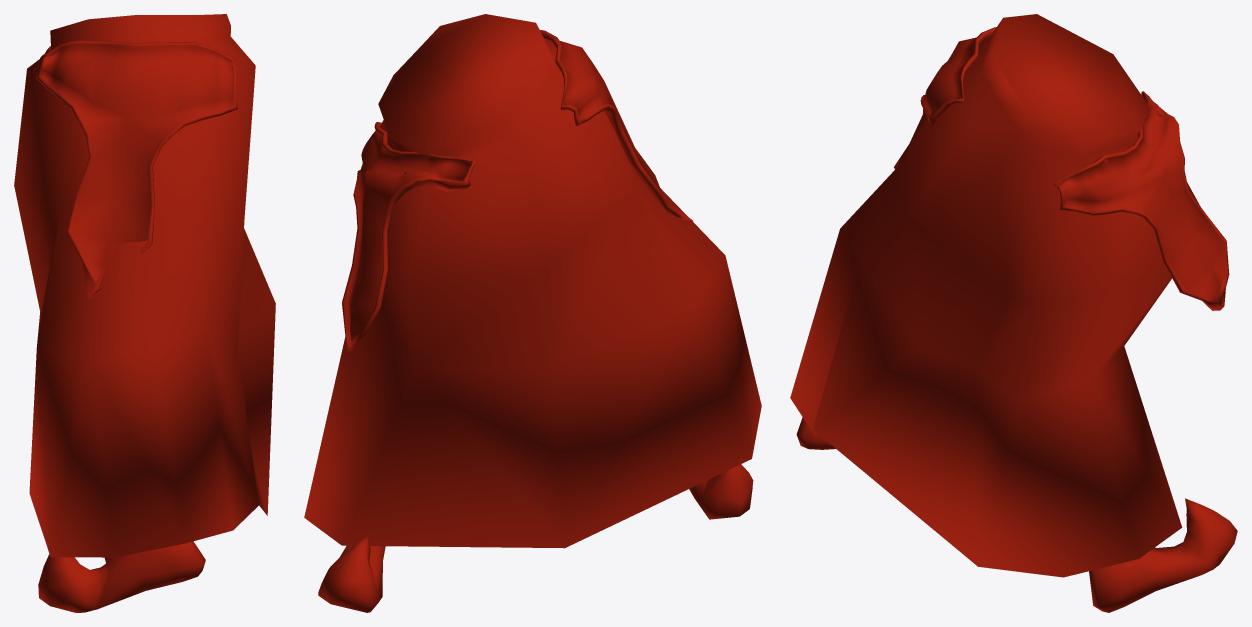
Rendered from bot_000075.obj.
The picture shows the model from 3 angles, left to right: view 1: azimuth 30°, elevation 25°; view 2: azimuth 150°, elevation 25°; view 3: azimuth 270°, elevation 25°; orthographic projection. The views are drawn at different scales.
Parts seen in each view (by area): view 1: LowPoly_Warlock.004_Plane.004; view 2: LowPoly_Warlock.004_Plane.004; view 3: LowPoly_Warlock.004_Plane.004.
Boxes of the visible parts, x1,y1,x2,y2 form: LowPoly_Warlock.004_Plane.004: (14,14,275,612); LowPoly_Warlock.004_Plane.004: (304,14,761,612); LowPoly_Warlock.004_Plane.004: (790,14,1237,612).
Bounding box in the file's own units: 0.6812 × 1.16 × 0.8784.
